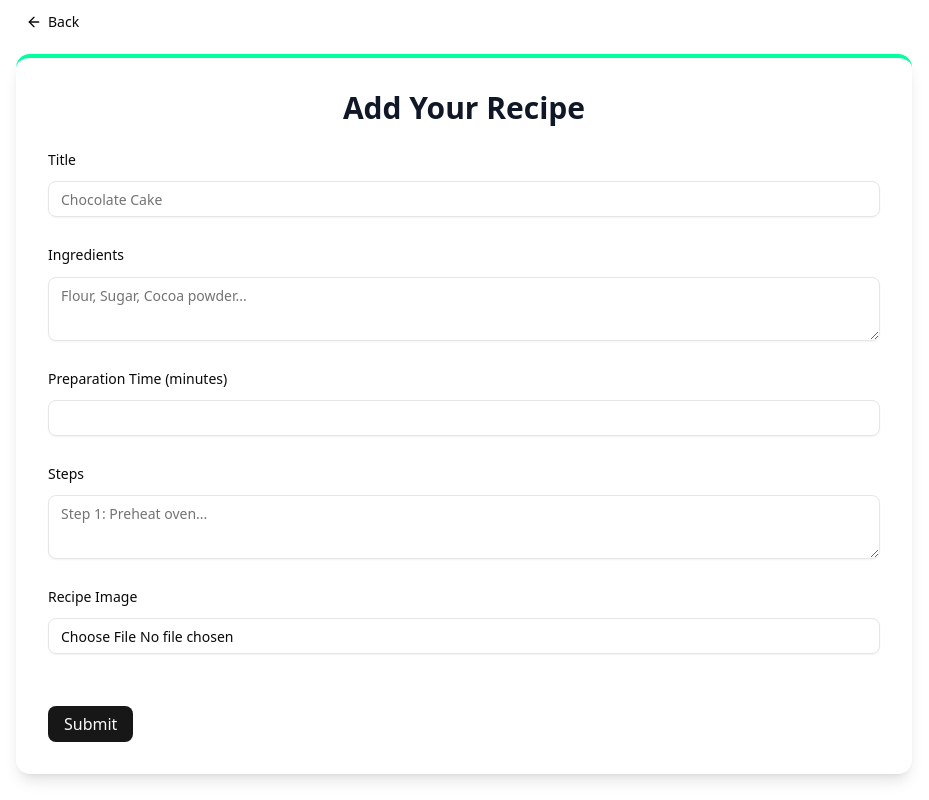
Test: shows loading state during submission
Type "Test Recipe" into the field labelled "Title". click: (464, 199)
box: [48,181,880,217]
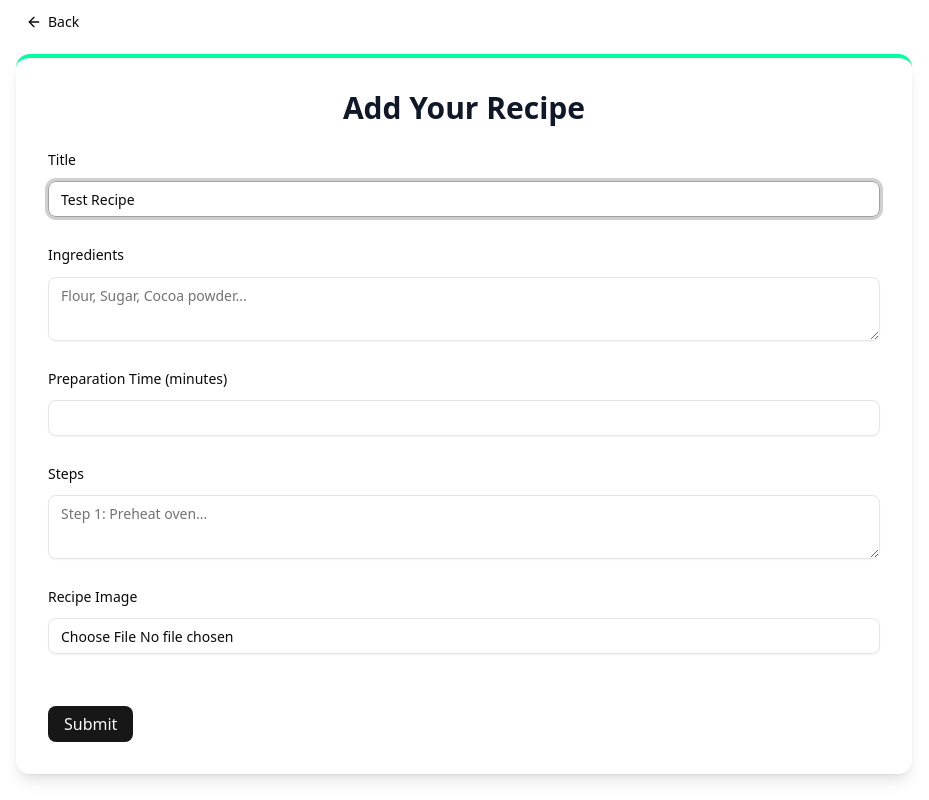
Type "Flour, Sugar, Eggs" into the text box labelled "Ingredients". click: (464, 308)
box: [48,276,880,340]
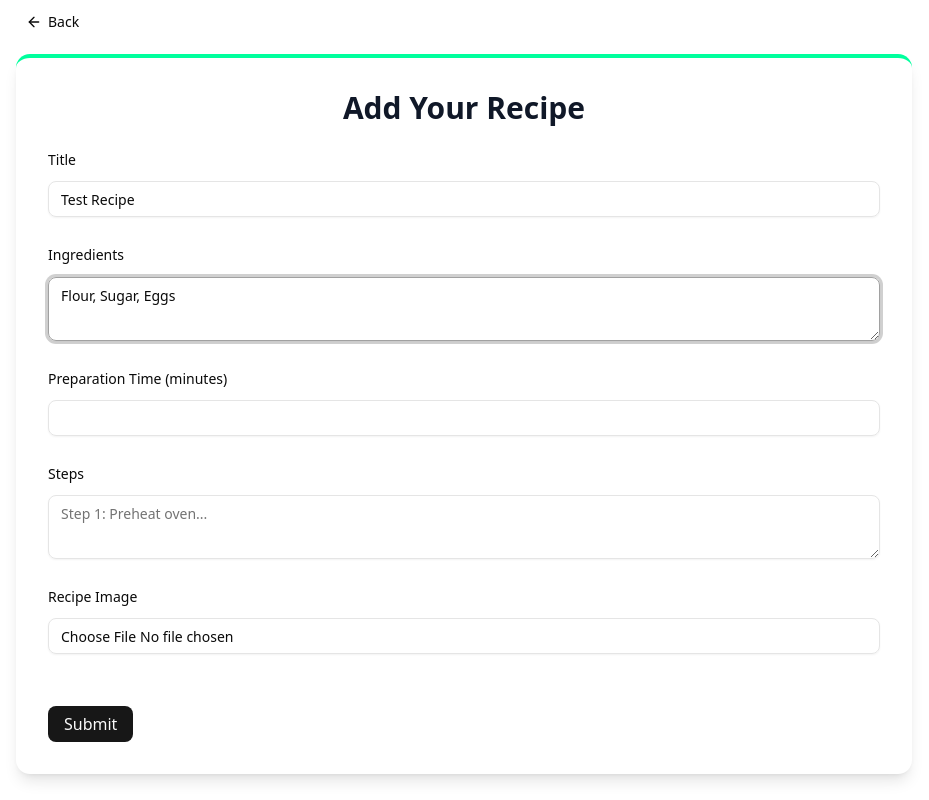
Type "30" into the number field labelled "Preparation Time (minutes)". click: (464, 418)
box: [48,400,880,436]
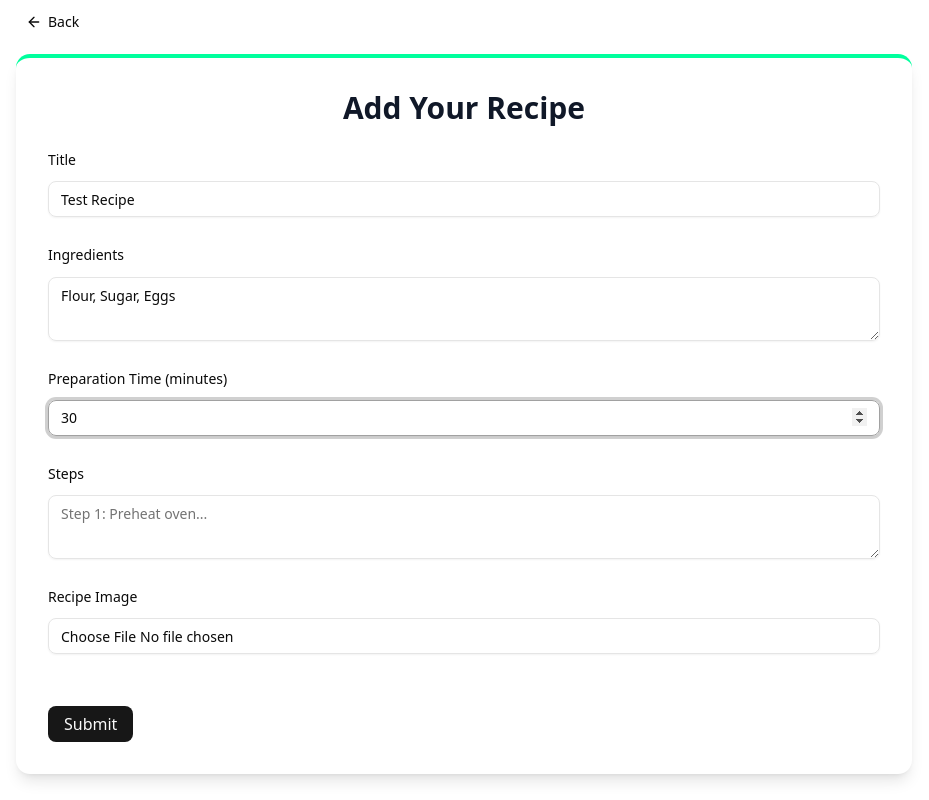
Type "Step 1: Mix ingredients. Step 2: Bake." into the text box labelled "Steps". click: (464, 527)
box: [48,495,880,559]
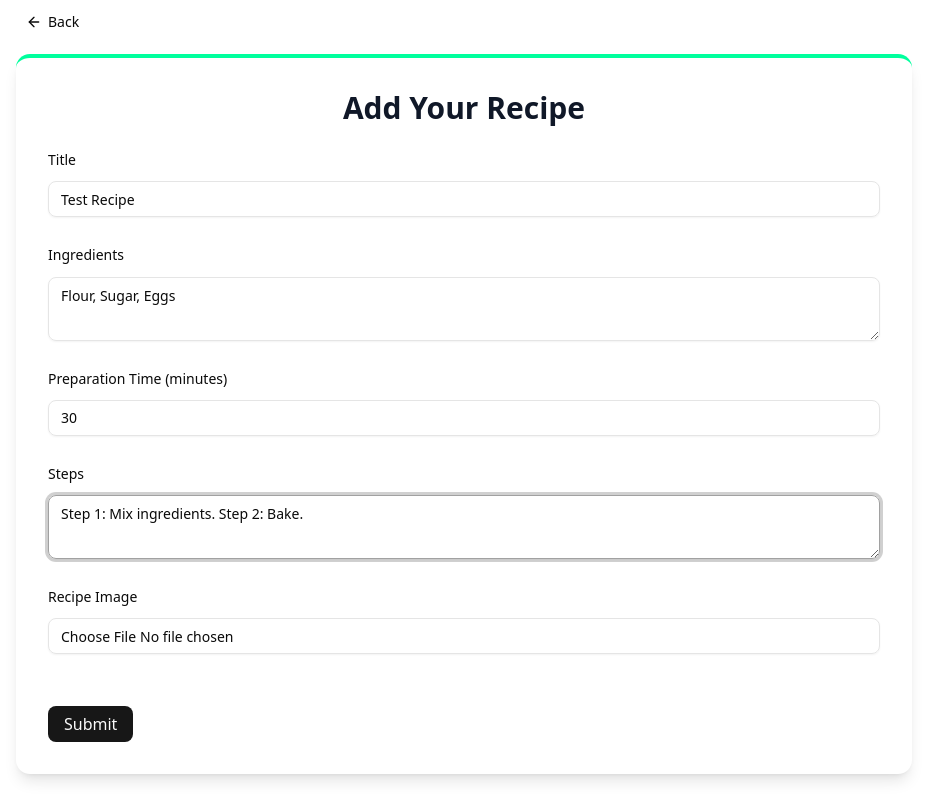
Click the button "Submit". click: (91, 724)
box: [48,706,133,742]
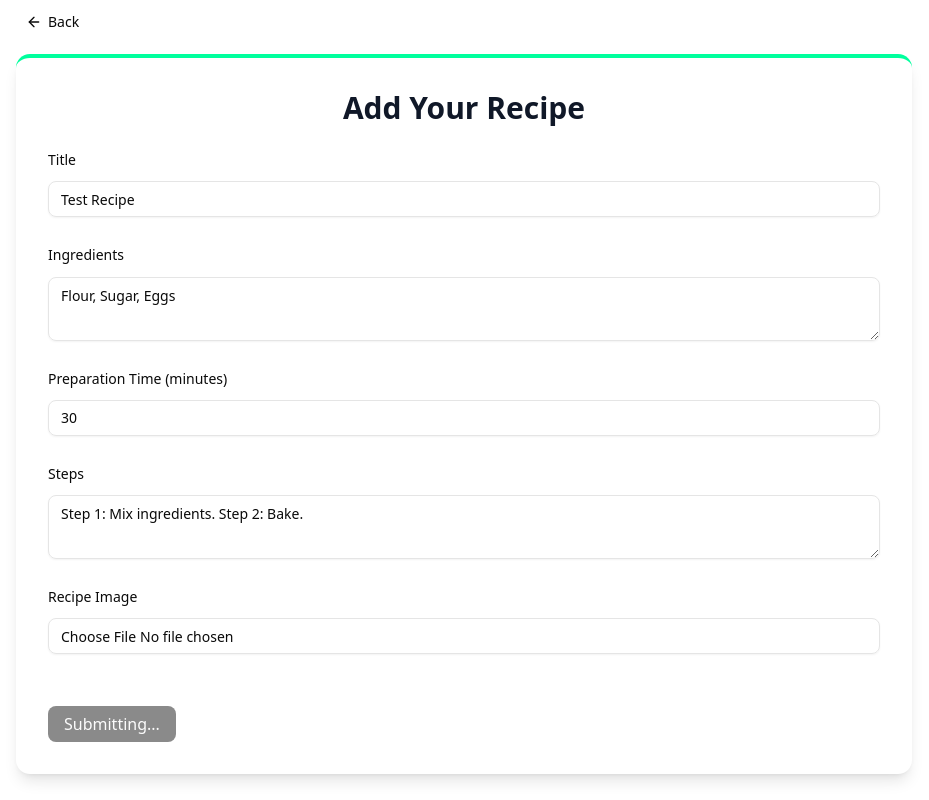
Check: the button "Submitting..." is shown, box [48,706,176,742]
Check: the button "Submitting..." is disabled, box [48,706,176,742]
